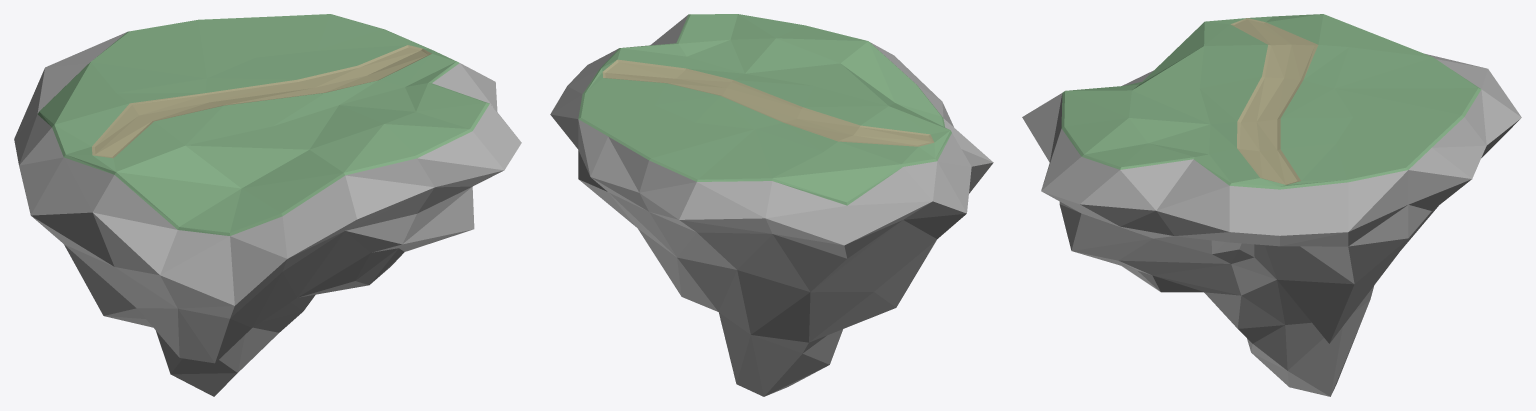
The model's file is S_MainIsland.fbx.
3 views of the same model, side by side, from view 1: azimuth 30°, elevation 25°; view 2: azimuth 150°, elevation 25°; view 3: azimuth 270°, elevation 25° (orthographic). The views are drawn at different scales.
Visible parts, largest first — view 1: MainIsland; view 2: MainIsland; view 3: MainIsland.
Part boxes in pixels (x1=…): MainIsland: x1=14, y1=14, x2=521, y2=396; MainIsland: x1=550, y1=14, x2=993, y2=396; MainIsland: x1=1022, y1=14, x2=1521, y2=396.
Size of the model in its own units: 86.14 by 57.13 by 82.11.
